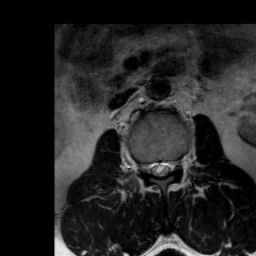CCS_stenosis: (156, 152, 164, 185)
LFS_normal: (171, 150, 179, 176)
LLS_normal: (164, 151, 172, 180)
RFS_normal: (140, 153, 148, 179)
RLS_normal: (148, 152, 156, 182)
